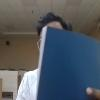notebook: (35, 25, 99, 99)
